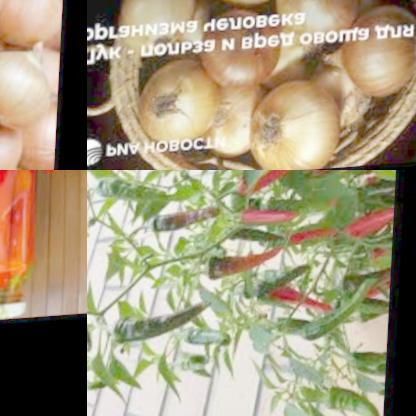hot pepper: (289, 276, 388, 360), (108, 298, 216, 356), (0, 170, 39, 318), (201, 239, 294, 293), (264, 276, 344, 328), (87, 171, 188, 208), (297, 378, 387, 416), (148, 199, 220, 242), (231, 202, 306, 243), (238, 170, 324, 203), (280, 222, 340, 258), (308, 170, 369, 187), (87, 306, 98, 359)
onion: (142, 0, 407, 170), (0, 0, 70, 170)
